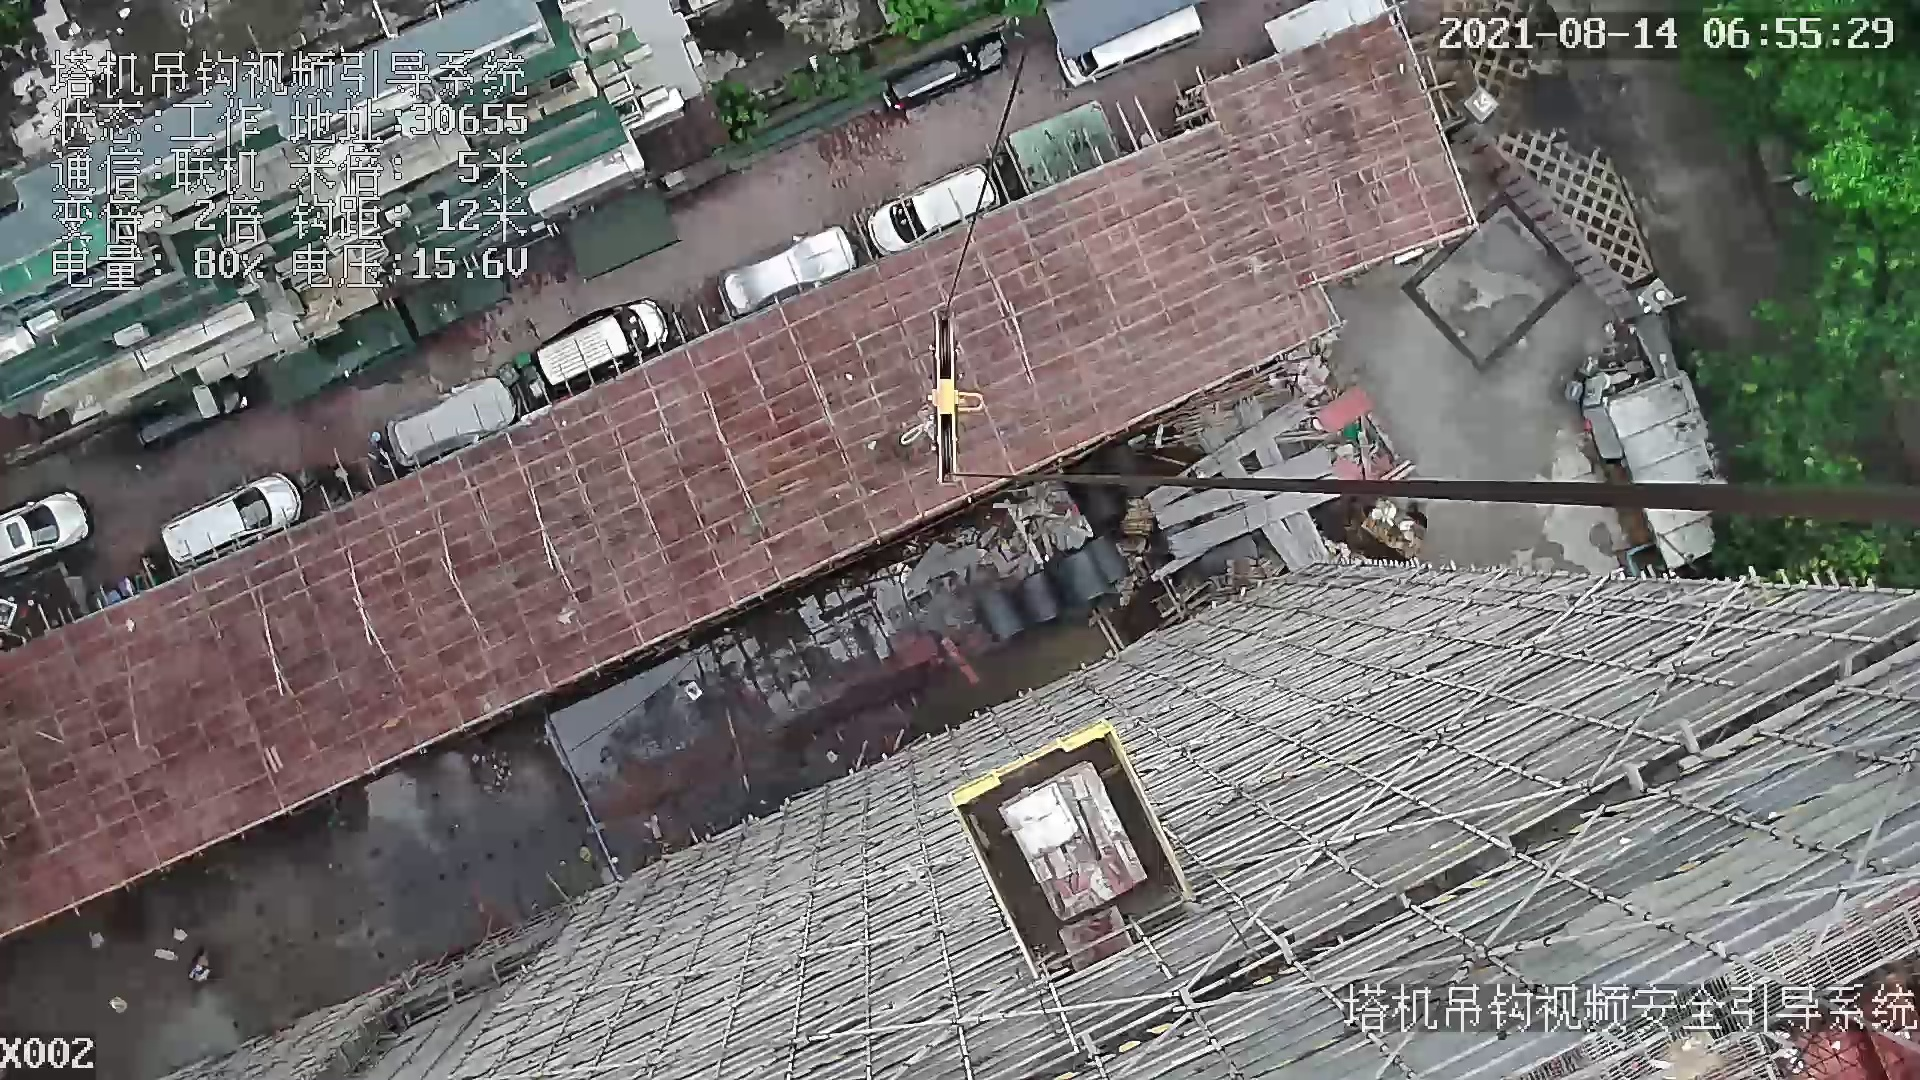board: (1001, 762, 1150, 919)
hook: (914, 303, 978, 497)
rebar: (1168, 495, 1340, 560), (1178, 401, 1309, 477), (1156, 491, 1271, 527), (1244, 444, 1331, 477), (1259, 520, 1308, 572), (1283, 512, 1329, 562)
